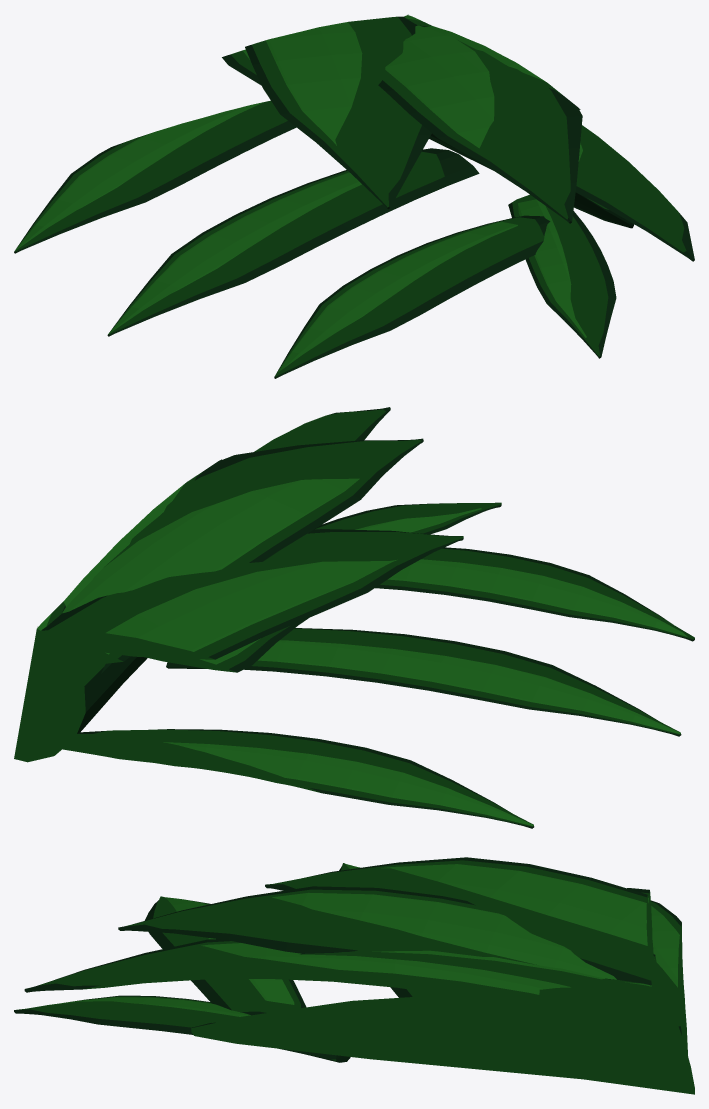
File: pineapple_281.glb
3 views of the same model, one above another, from view 1: azimuth 30°, elevation 25°; view 2: azimuth 150°, elevation 25°; view 3: azimuth 270°, elevation 25° (orthographic). The views are drawn at different scales.
Visible parts, largest first — view 1: pineapple_281; view 2: pineapple_281; view 3: pineapple_281.
Boxes of the visible parts, bbox=[...] form: pineapple_281: bbox=[14, 14, 694, 378]; pineapple_281: bbox=[14, 407, 694, 828]; pineapple_281: bbox=[14, 857, 694, 1094].
Bounding box in the file's own units: 20.55 × 6.34 × 26.4.
